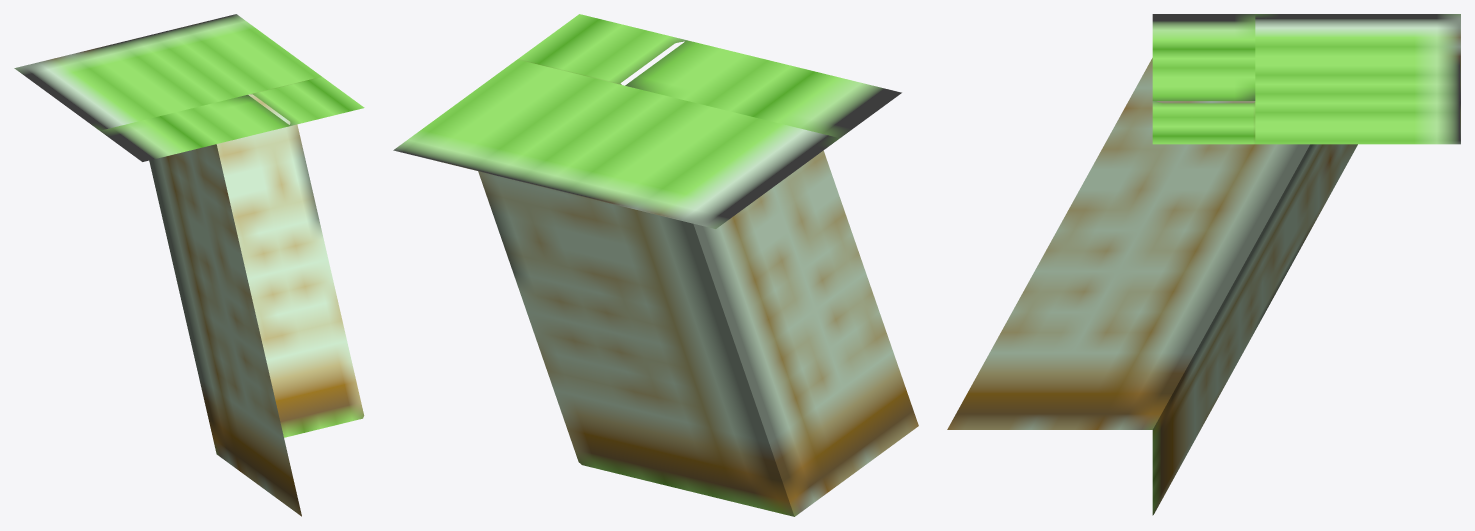
Rendered from tile_lab_1.obj.
The picture shows the model from 3 angles, left to right: view 1: azimuth 30°, elevation 25°; view 2: azimuth 150°, elevation 25°; view 3: azimuth 270°, elevation 25°; orthographic projection. The views are drawn at different scales.
Parts seen in each view (by area): view 1: Default; view 2: Default; view 3: Default.
Boxes of the visible parts, x1,y1,x2,y2 form: Default: [14, 14, 364, 516]; Default: [393, 14, 918, 516]; Default: [947, 14, 1460, 515].
Size of the model in its own units: 1.5 by 2 by 2.5.
